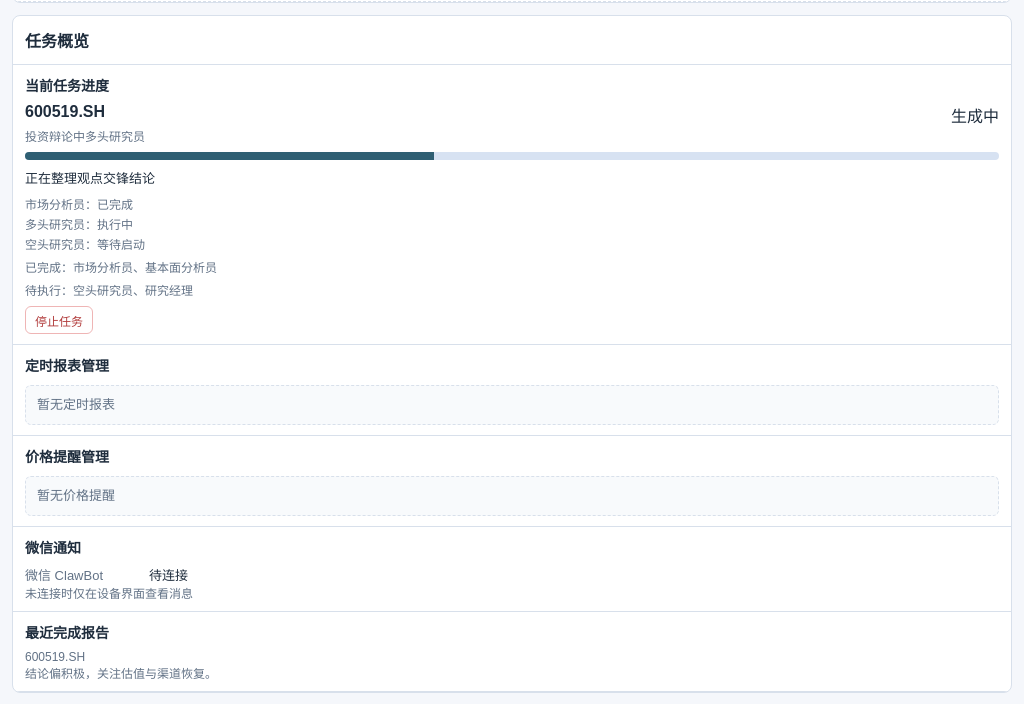
Test case: home page › stops the running report task from the right rail
(page scrolled)
Click the button "停止任务". click: coordinates (59, 320)
box: left=25, top=306, right=93, bottom=334
(page scrolled)
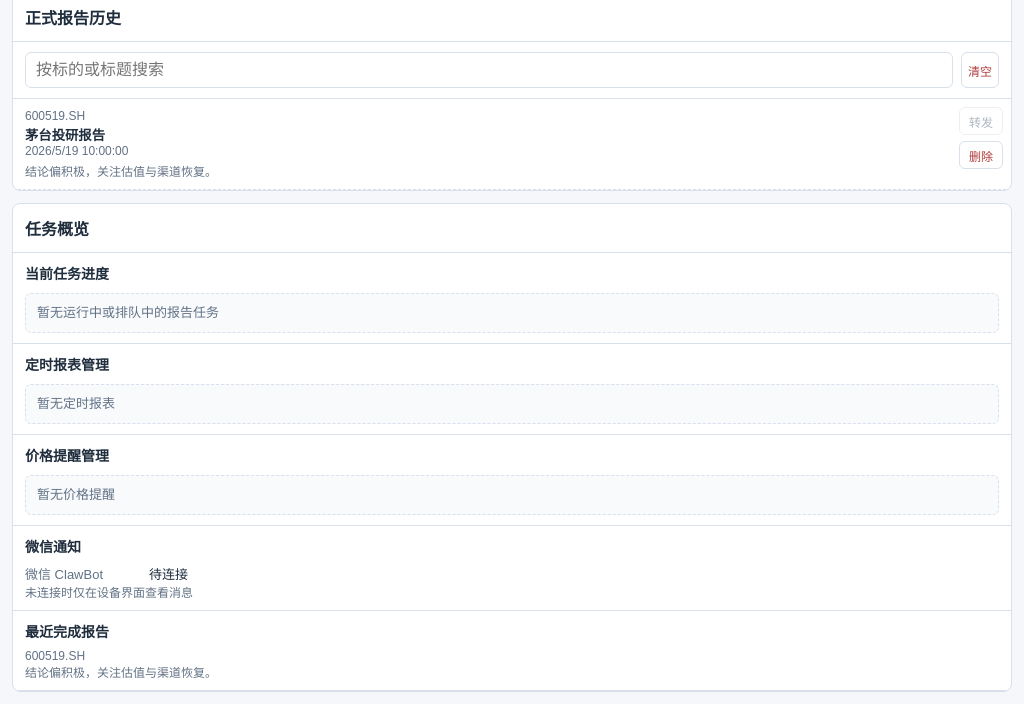
Expected: the text "暂无运行中或排队中的报告任务" is shown, left=25, top=293, right=999, bottom=333
